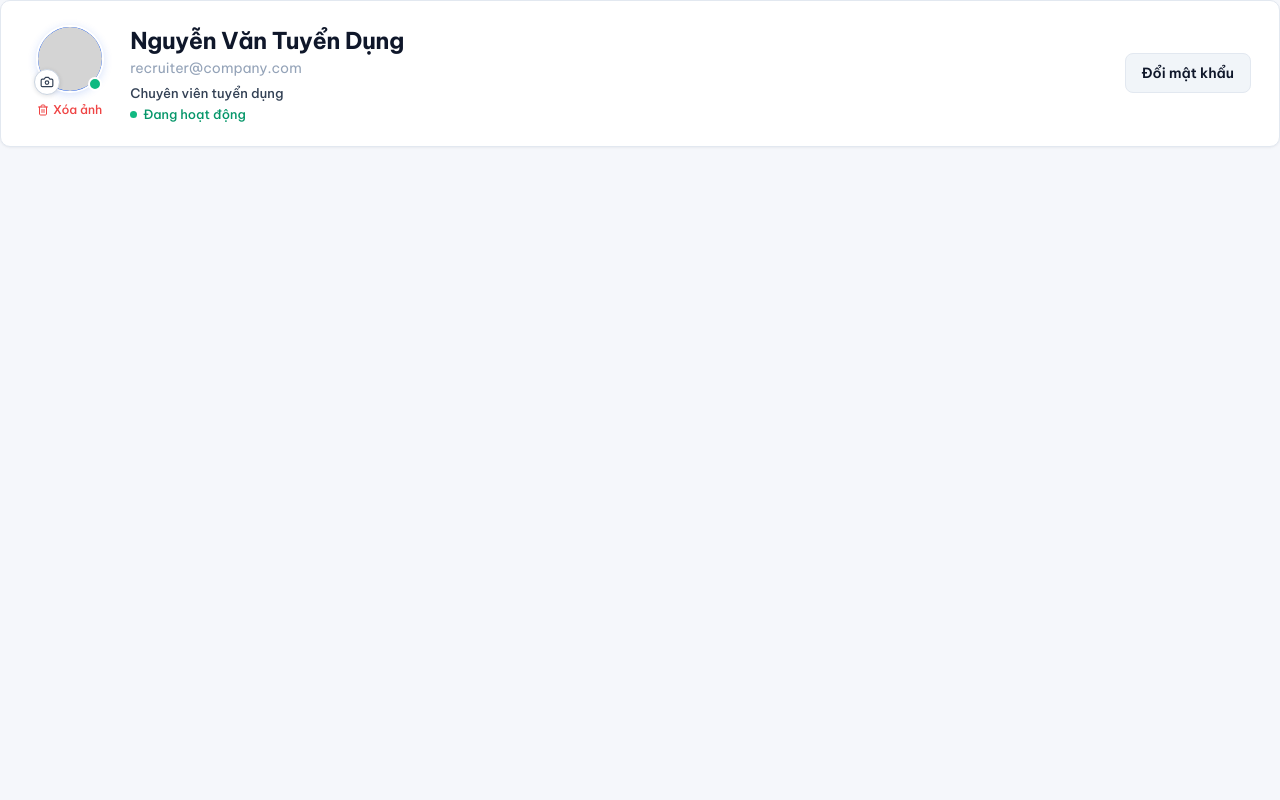
Test: Avatar Upload & ProfileHeader / Header Integration (S2-03) › AV-12: delete avatar opens confirmation modal and clears avatar on success
This screenshot has width=1280, height=800.
Click the button with test id "delete-avatar-btn": (70, 110) x1=29 y1=99 x2=110 y2=122
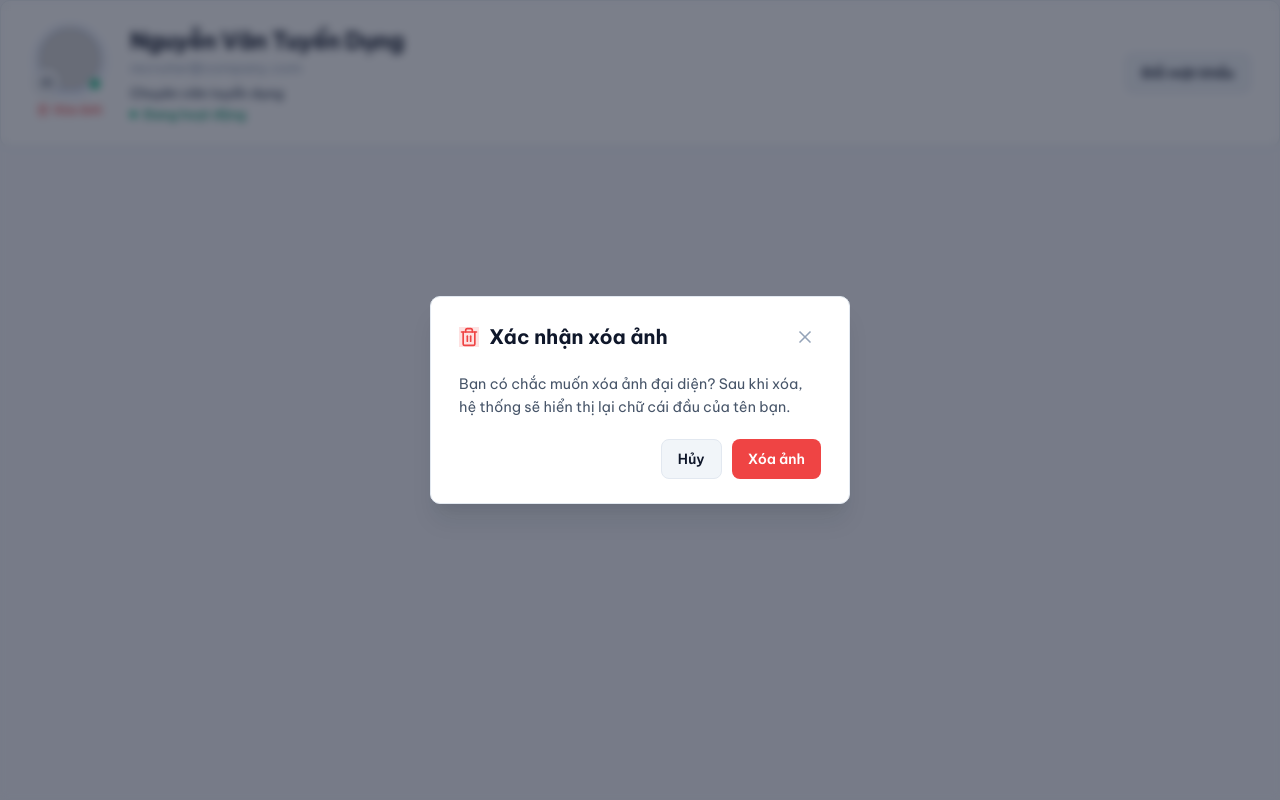
Expected: the heading "Xác nhận xóa ảnh" is shown, x1=489 y1=323 x2=668 y2=351
Click the button with test id "confirm-delete-avatar-btn": (776, 459) x1=732 y1=439 x2=821 y2=479
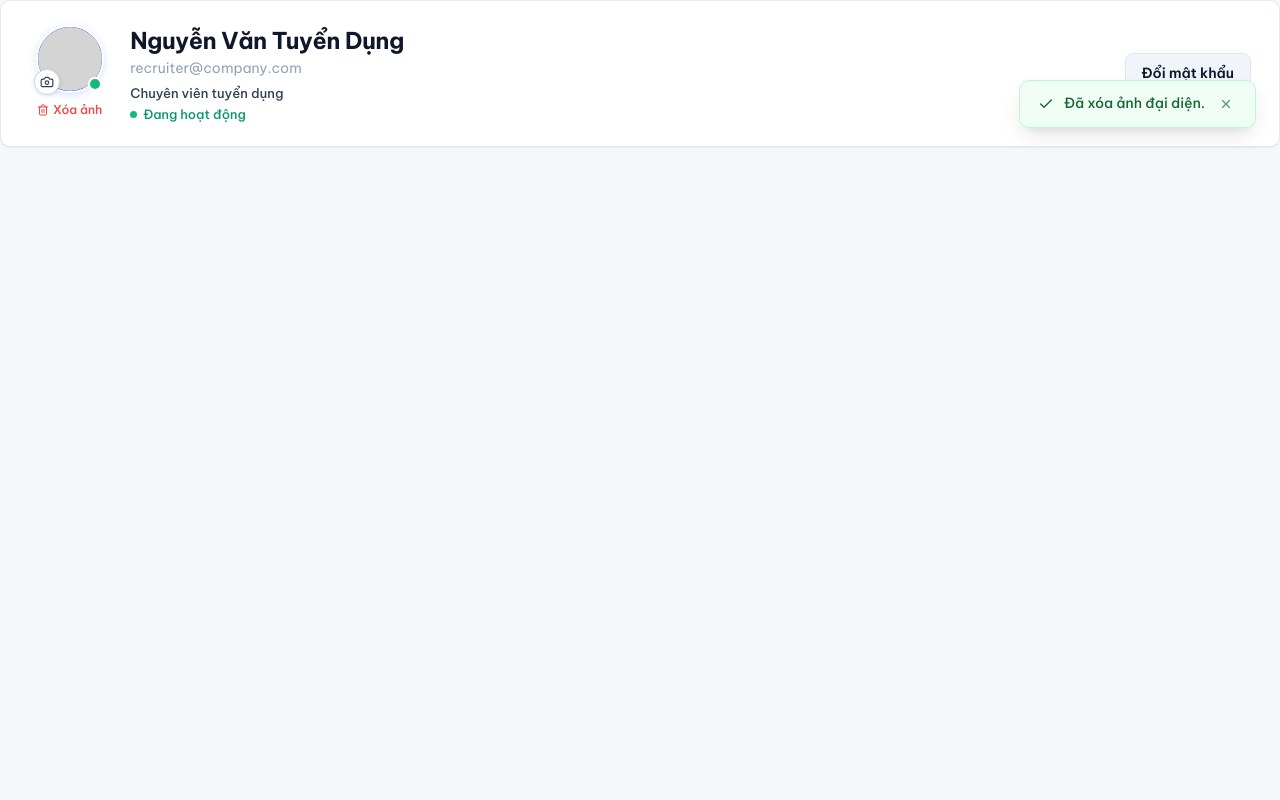
Expected: the text "Đã xóa ảnh đại diện." is shown, x1=1064 y1=93 x2=1205 y2=115
